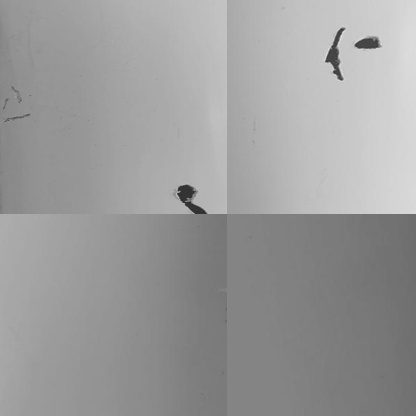kongdong: (316, 22, 346, 84), (172, 184, 210, 217), (353, 33, 385, 54)
